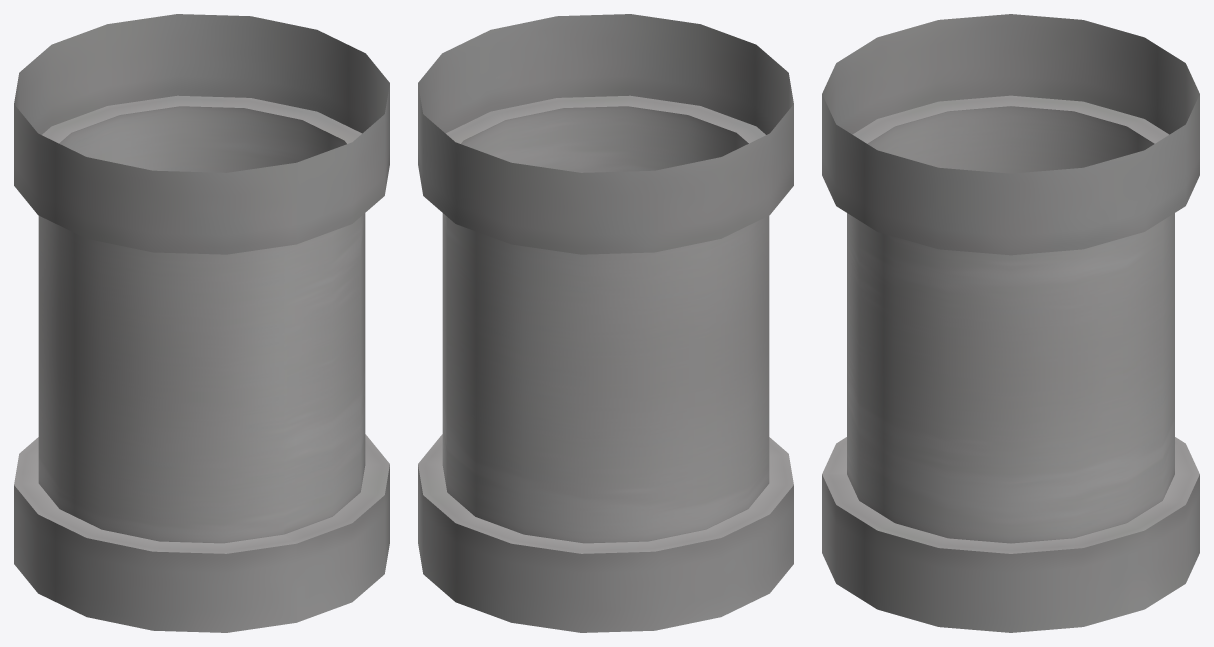
The model's file is Pipe6.fbx.
The picture shows the model from 3 angles, left to right: view 1: azimuth 30°, elevation 25°; view 2: azimuth 150°, elevation 25°; view 3: azimuth 270°, elevation 25°; orthographic projection.
Visible parts, largest first — view 1: Mat_Pipe_01; view 2: Mat_Pipe_01; view 3: Mat_Pipe_01.
Part boxes in pixels (x1,y1,x2,y2): Mat_Pipe_01: [14, 14, 389, 632]; Mat_Pipe_01: [418, 14, 793, 632]; Mat_Pipe_01: [822, 14, 1199, 632].
Size of the model in its own units: 0.3455 by 0.4633 by 0.3455.
1 material, 1 textured.
